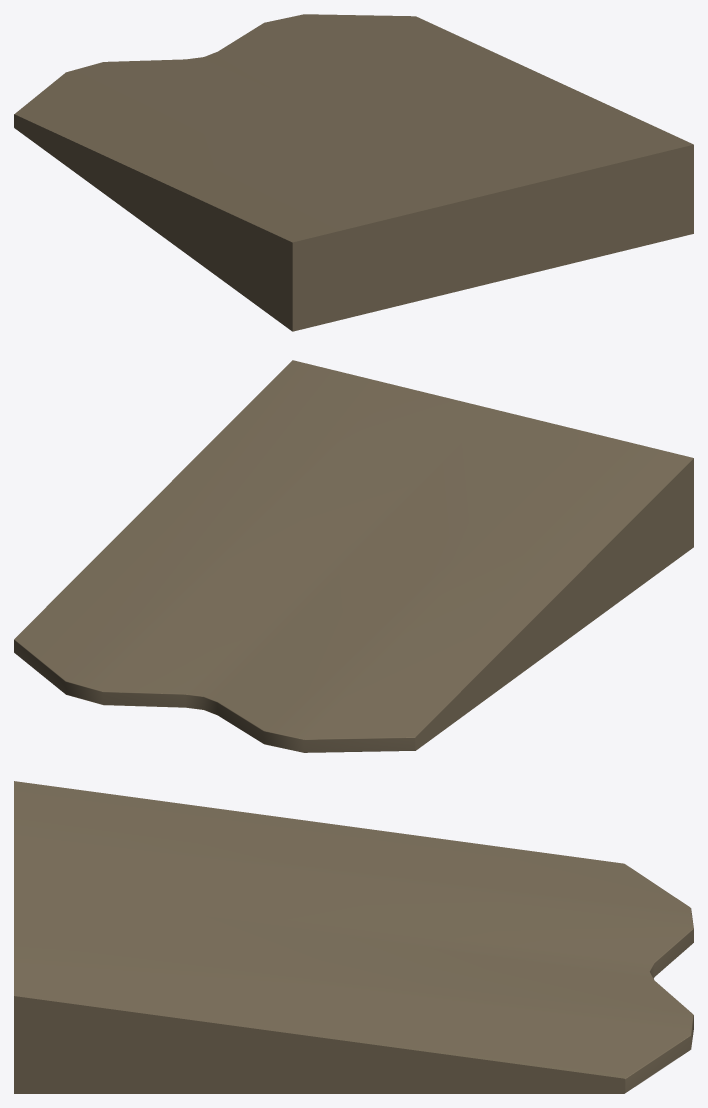
File: Ground 1.fbx
3 renders of one model, top to bottom at view 1: azimuth 30°, elevation 25°; view 2: azimuth 150°, elevation 25°; view 3: azimuth 270°, elevation 25°, orthographic. The views are drawn at different scales.
Visible parts, largest first — view 1: pCube8; view 2: pCube8; view 3: pCube8.
Part boxes in pixels (x1=…): pCube8: x1=14, y1=14, x2=693, y2=331; pCube8: x1=14, y1=360, x2=693, y2=752; pCube8: x1=14, y1=781, x2=693, y2=1093.
Size of the model in its own units: 5.24 by 1.11 by 7.01.
